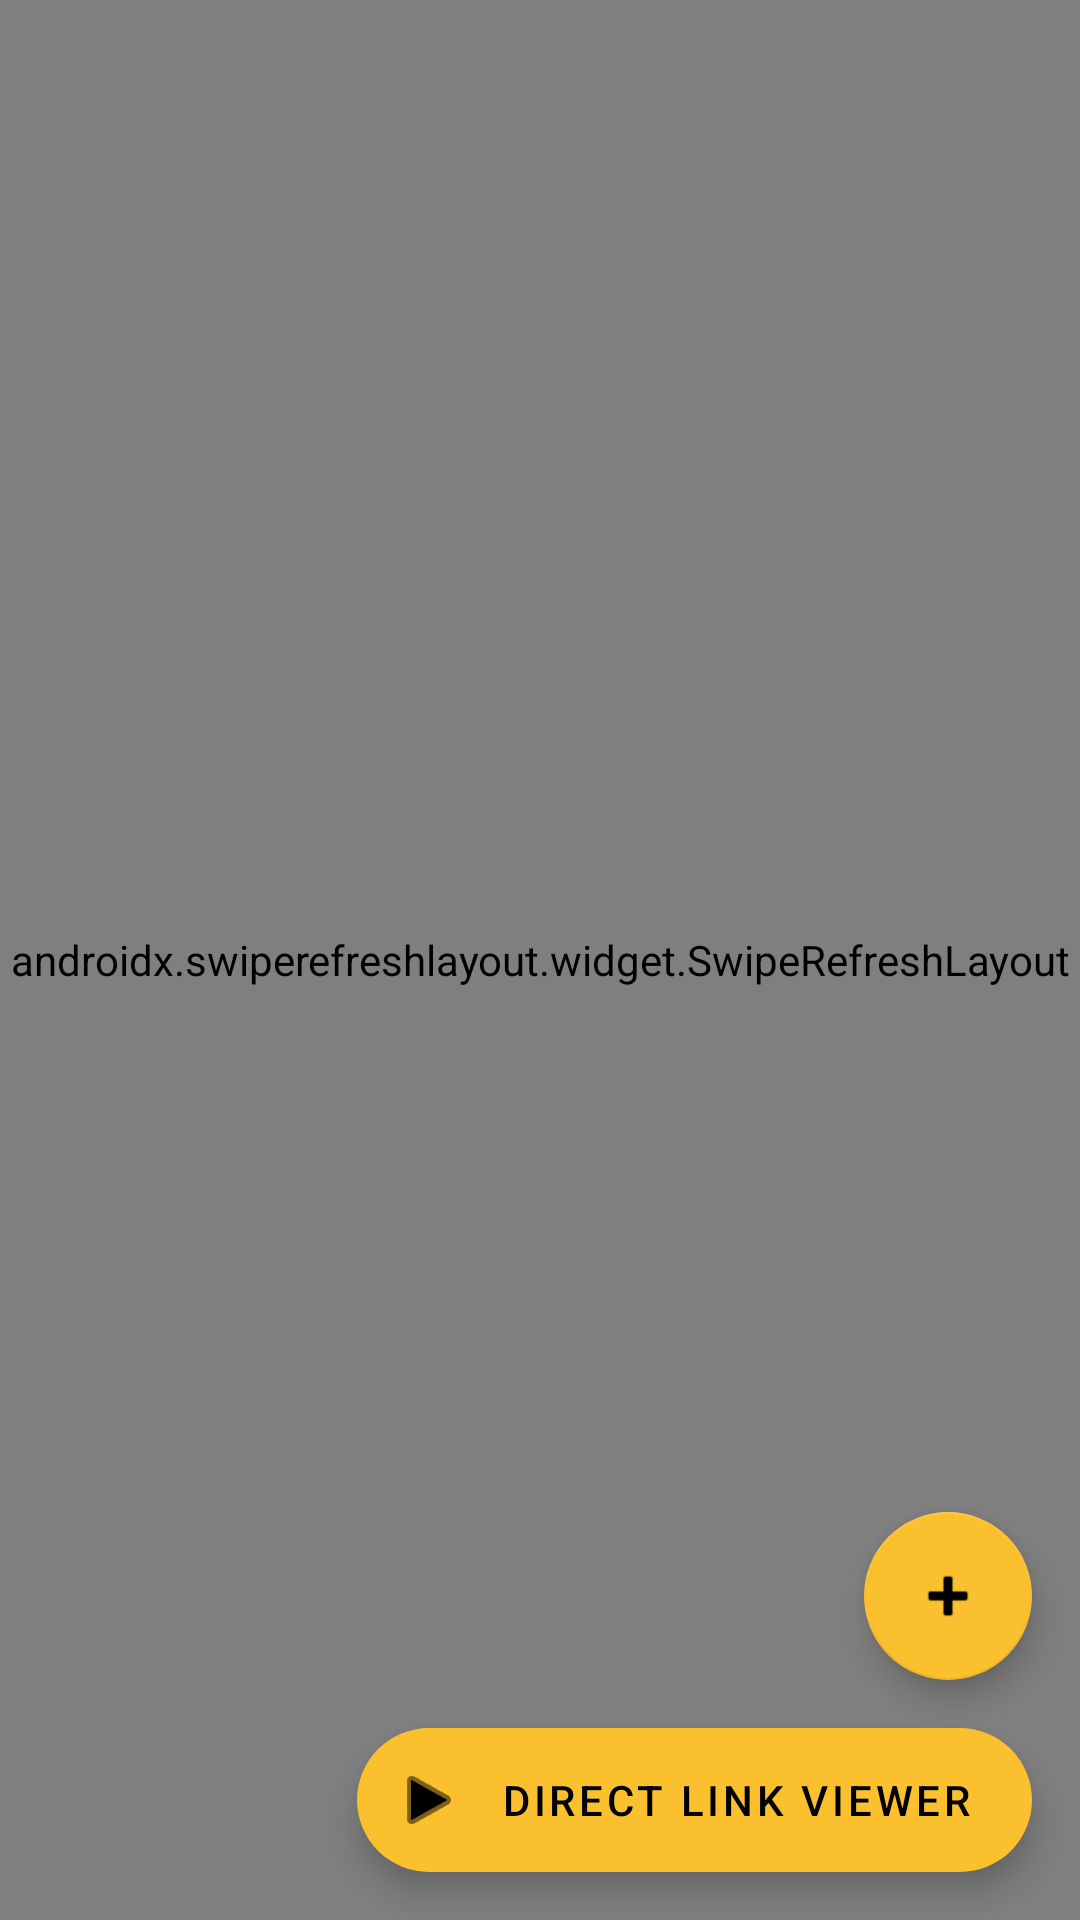

Point at icon controls on the screen. Image size 1080 x 1920, points as (x=x, y=y).
Add Playlist: (x=948, y=1596)
